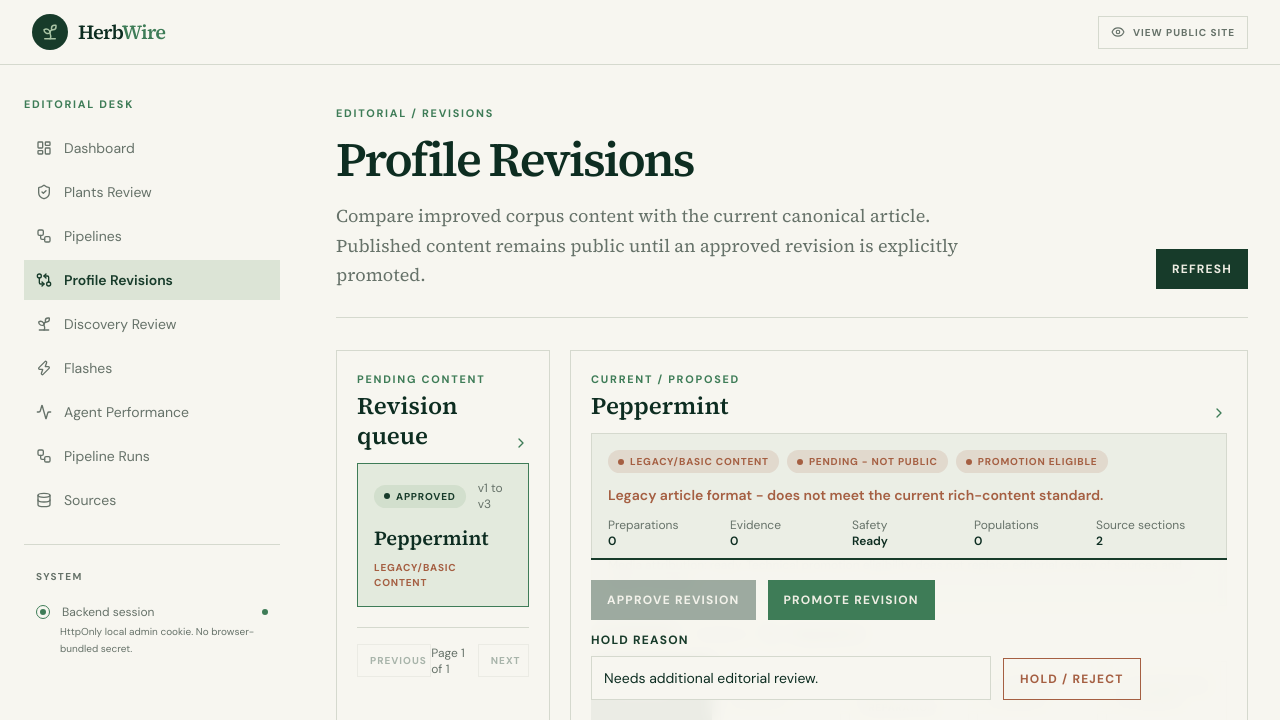
Scenario: Milestone 2 final UI and functionality › labels legacy revisions and cancellation never promotes
Expected: the text "Legacy article format - does not meet the current rich-content standard." is shown, [608, 486, 1103, 504]
Expected: the text "Legacy/basic content" is shown, [374, 561, 456, 589]
Click the button "Promote revision".
click(851, 600)  # box [768, 580, 935, 620]
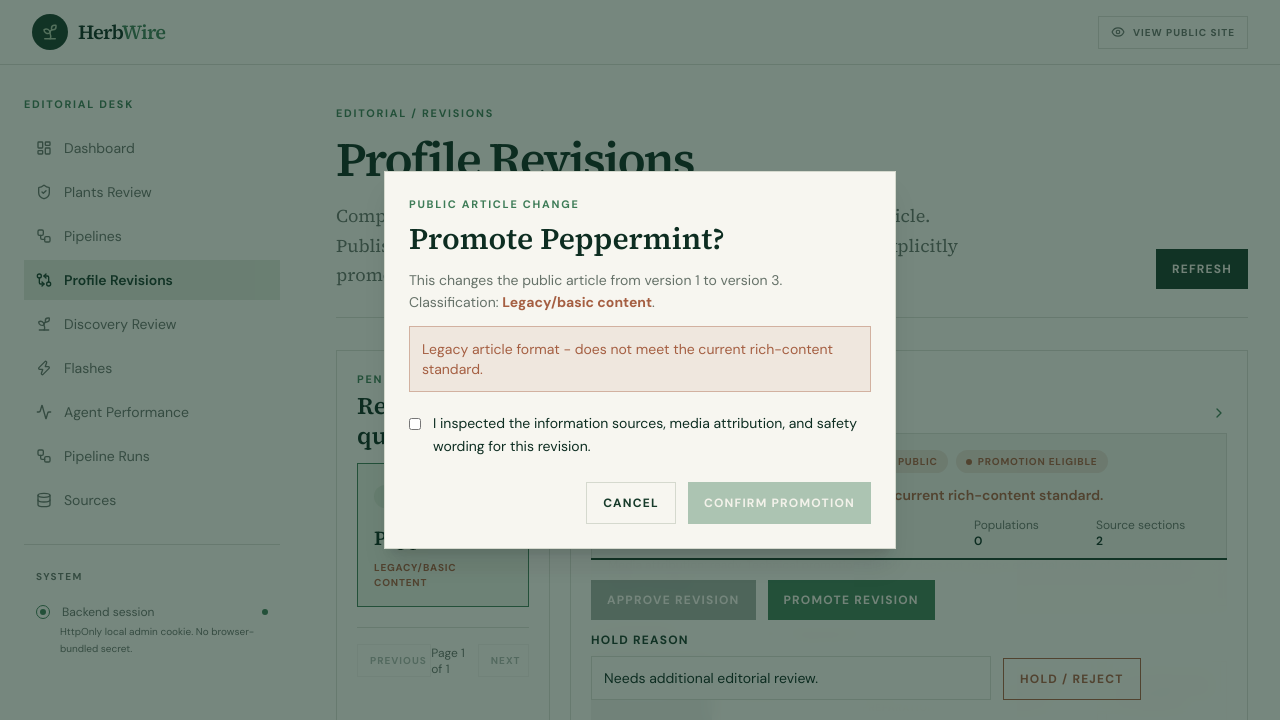
Now the text "changes the public article" is shown, box [409, 271, 695, 289]
Now the text "does not meet the current rich-content standard" is shown, box [422, 340, 833, 378]
Click the button "Cancel".
click(631, 503)  # box [586, 482, 676, 524]
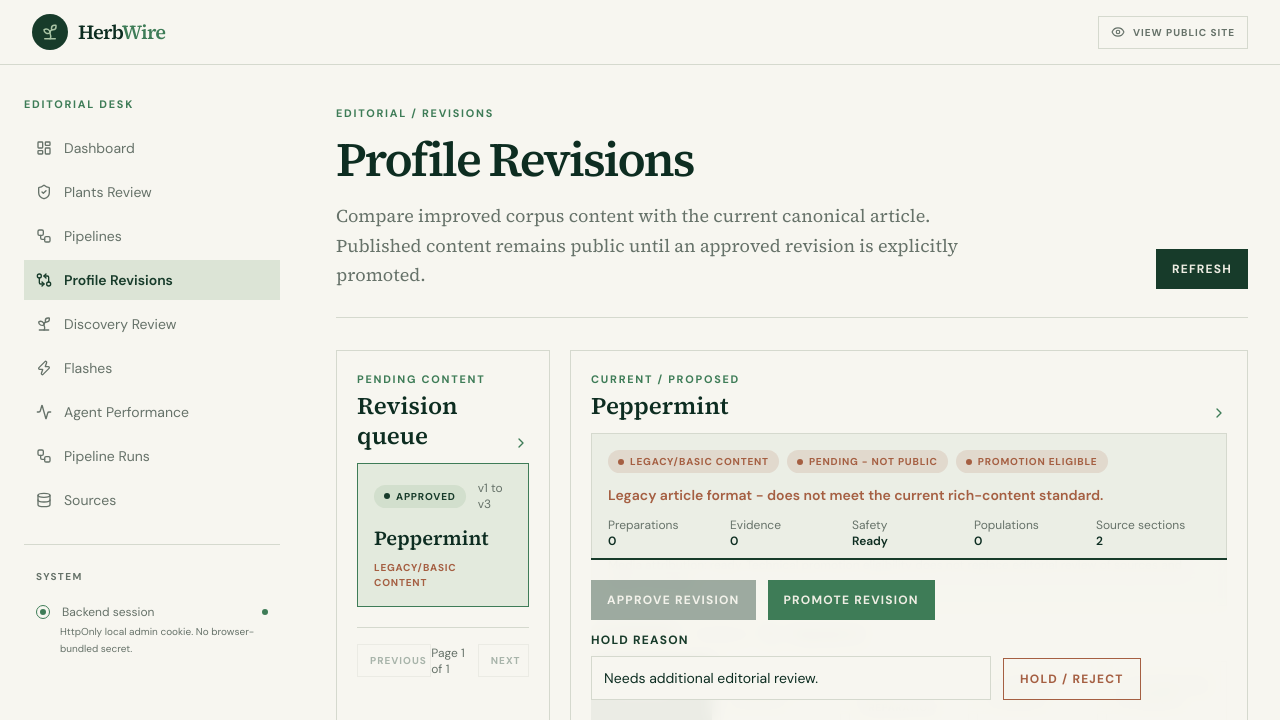
Now the dialog is gone
